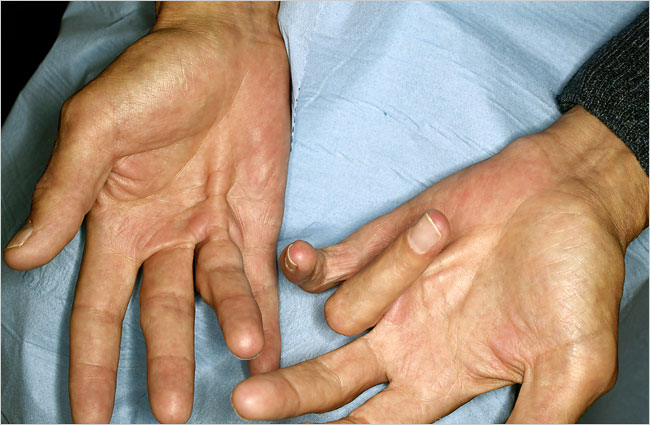finger: (319, 199, 456, 341), (227, 317, 387, 422), (70, 261, 139, 421), (134, 247, 198, 419), (195, 234, 258, 370), (246, 239, 284, 376), (280, 234, 382, 278)
